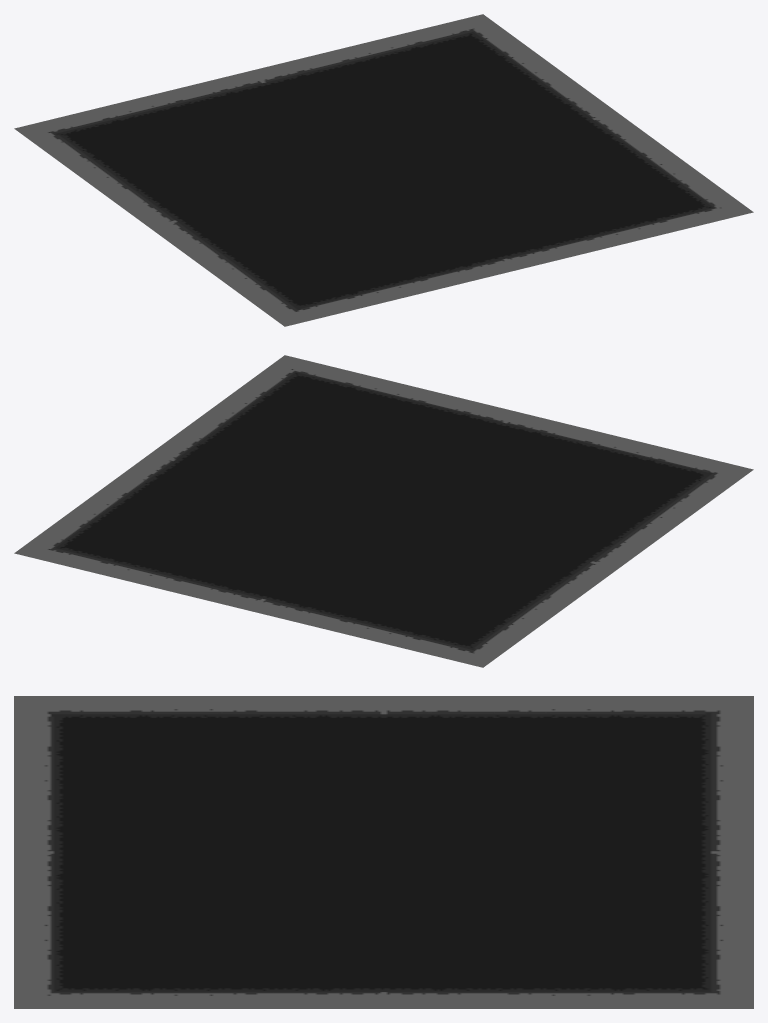
The model's file is roof_sqr.FBX.
3 renders of one model, top to bottom at view 1: azimuth 30°, elevation 25°; view 2: azimuth 150°, elevation 25°; view 3: azimuth 270°, elevation 25°, orthographic. The views are drawn at different scales.
Parts seen in each view (by area): view 1: roof; view 2: roof; view 3: roof.
Boxes of the visible parts, x1,y1,x2,y2 form: roof: [14, 14, 753, 326]; roof: [14, 355, 753, 667]; roof: [14, 696, 753, 1008].
Bounding box in the file's own units: 147 × 9.02e-15 × 147.
Materials: 1 (1 with a texture image).
